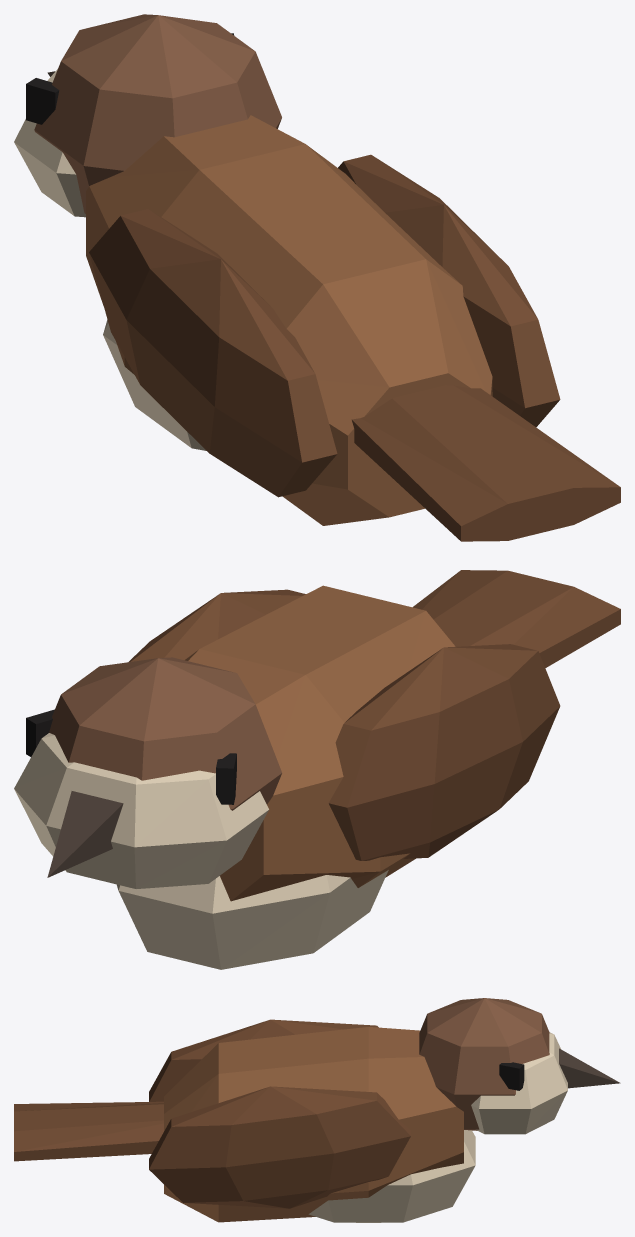
Rendered from animal_sparrow.obj.
3 renders of one model, top to bottom at view 1: azimuth 30°, elevation 25°; view 2: azimuth 150°, elevation 25°; view 3: azimuth 270°, elevation 25°, orthographic. The views are drawn at different scales.
Visible parts, largest first — view 1: animal_sparrow; view 2: animal_sparrow; view 3: animal_sparrow.
Boxes of the visible parts, bbox=[...] form: animal_sparrow: bbox=[14, 14, 620, 541]; animal_sparrow: bbox=[14, 570, 620, 969]; animal_sparrow: bbox=[14, 998, 620, 1222].
Size of the model in its own units: 0.1604 by 0.182 by 0.445.
